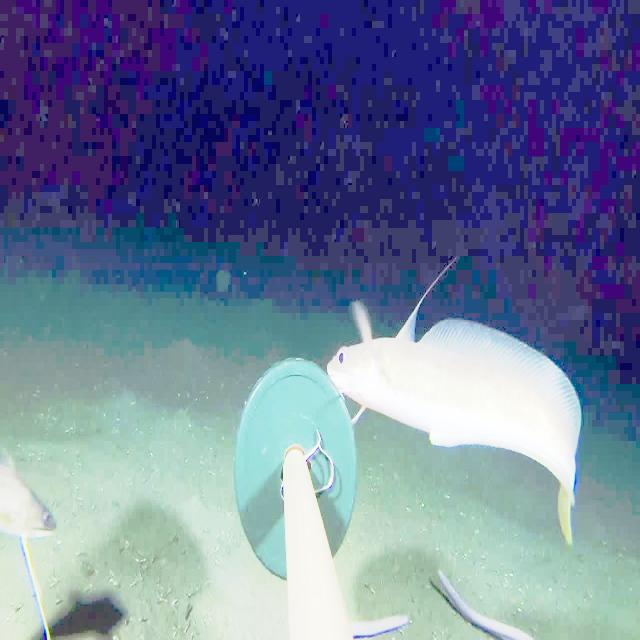eel: (428, 549, 550, 640), (338, 588, 420, 640)
fish: (314, 293, 612, 581), (2, 422, 64, 568)
pole: (230, 353, 360, 639)
